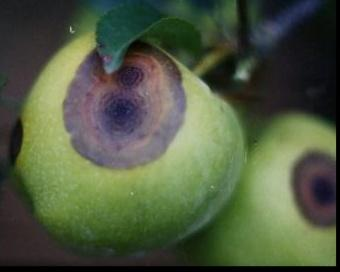rotten apple: (9, 18, 245, 256), (200, 106, 334, 266)
